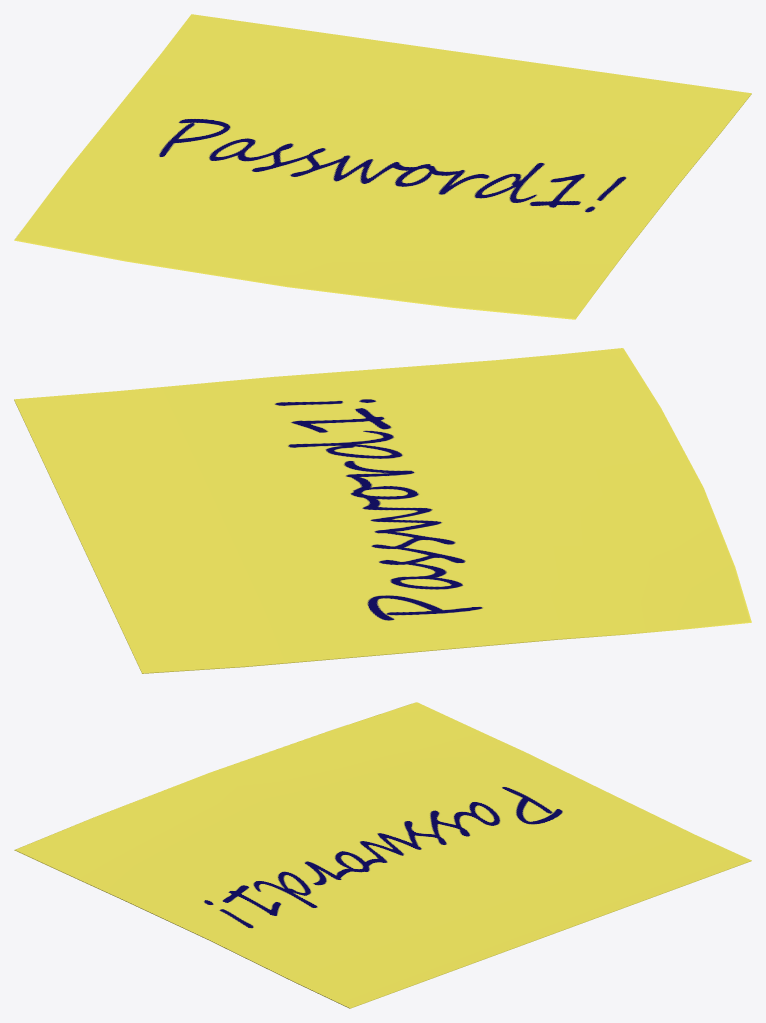
File: FindPassword_interactable_note_L2_v5.gltf
3 renders of one model, top to bottom at view 1: azimuth 30°, elevation 25°; view 2: azimuth 150°, elevation 25°; view 3: azimuth 270°, elevation 25°, orthographic. The views are drawn at different scales.
Parts seen in each view (by area): view 1: Level_2_Sticky; view 2: Level_2_Sticky; view 3: Level_2_Sticky.
Boxes of the visible parts, x1,y1,x2,y2 form: Level_2_Sticky: [14, 14, 751, 319]; Level_2_Sticky: [14, 348, 751, 673]; Level_2_Sticky: [14, 702, 751, 1008].
Size of the model in its own units: 0.2832 by 0.00186 by 0.2859.
1 material, 1 textured.
